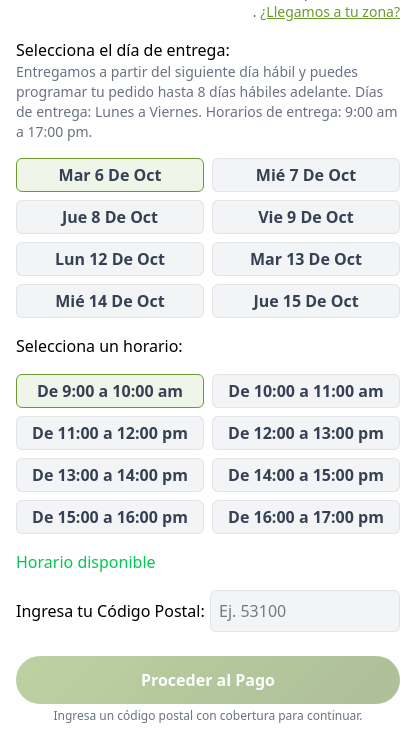
Test: CartContainer: día de entrega › permite pagar cuando la franja tiene lugar
This screenshot has width=417, height=741.
(page scrolled)
In the field labelled "Ingresa tu Código Postal:": x=305, y=611 [210, 590, 400, 632], type "53100"
(page scrolled)
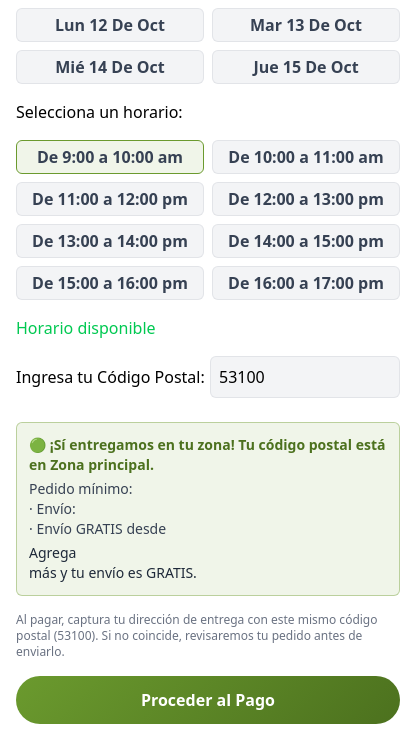
Expected: the text "Horario disponible" is shown, [16, 317, 156, 339]
Expected: the button "Proceder al Pago" is enabled, [16, 676, 400, 724]
